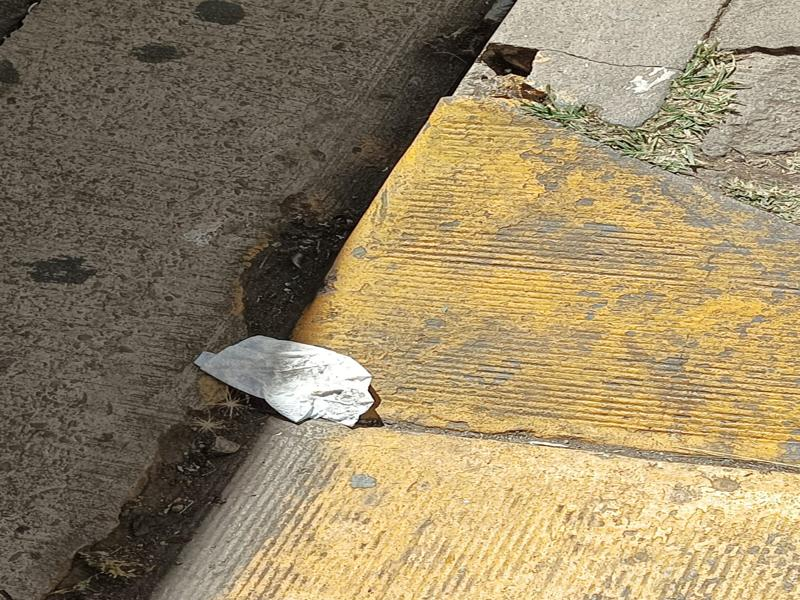papel: (194, 337, 378, 427)
